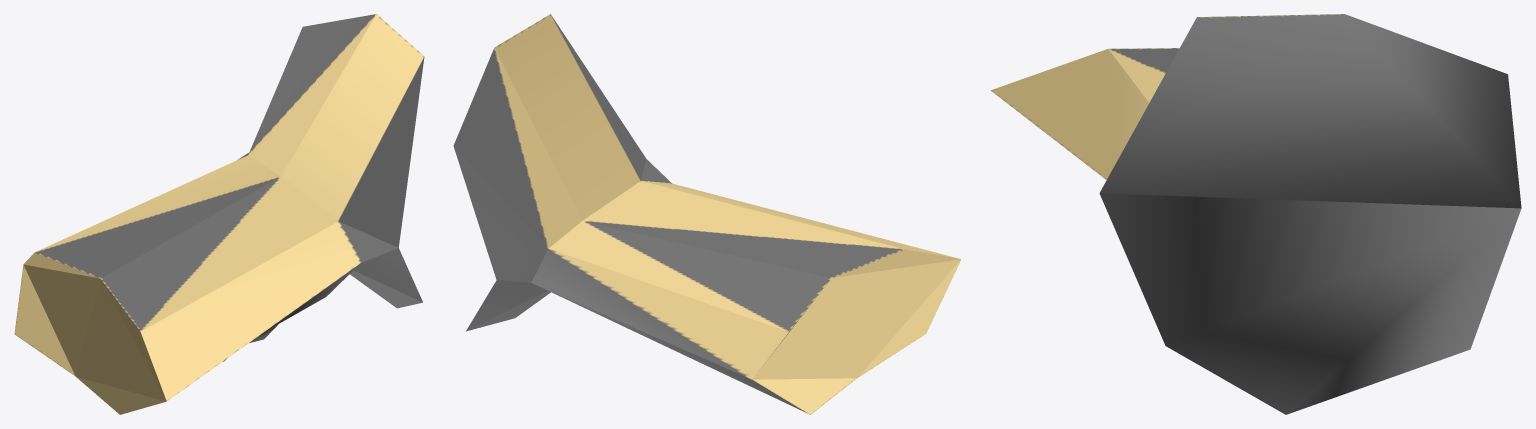
Rendered from wing 3.FBX.
3 views of the same model, side by side, from view 1: azimuth 30°, elevation 25°; view 2: azimuth 150°, elevation 25°; view 3: azimuth 270°, elevation 25° (orthographic). The views are drawn at different scales.
Visible parts, largest first — view 1: Box001; view 2: Box001; view 3: Box001.
Part boxes in pixels (x1=…): Box001: x1=14, y1=14, x2=424, y2=414; Box001: x1=453, y1=14, x2=961, y2=414; Box001: x1=991, y1=14, x2=1521, y2=414.
Bounding box in the file's own units: 54.93 × 43.23 × 51.89.
1 material, 1 textured.
